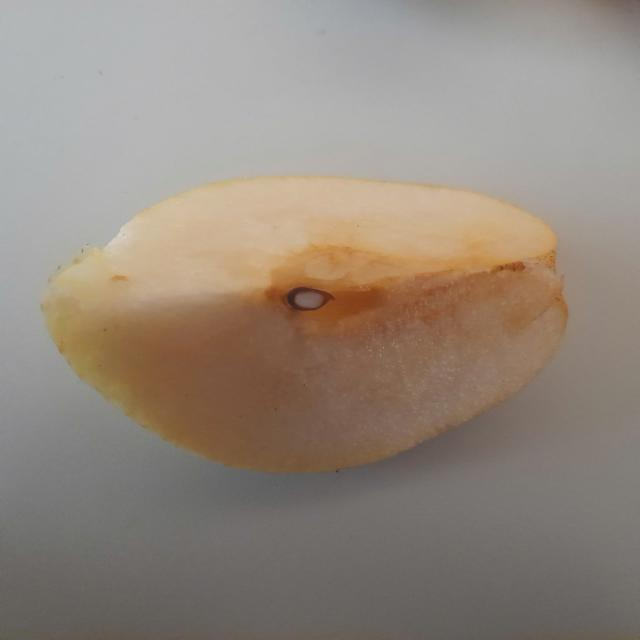Le: (43, 163, 576, 488)
